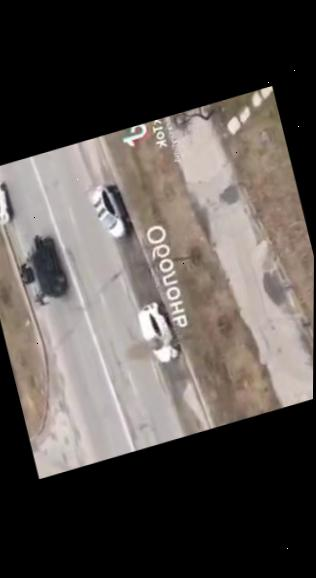armored_car: (10, 229, 71, 310)
car: (134, 298, 183, 369), (87, 178, 135, 245), (0, 179, 16, 228)
